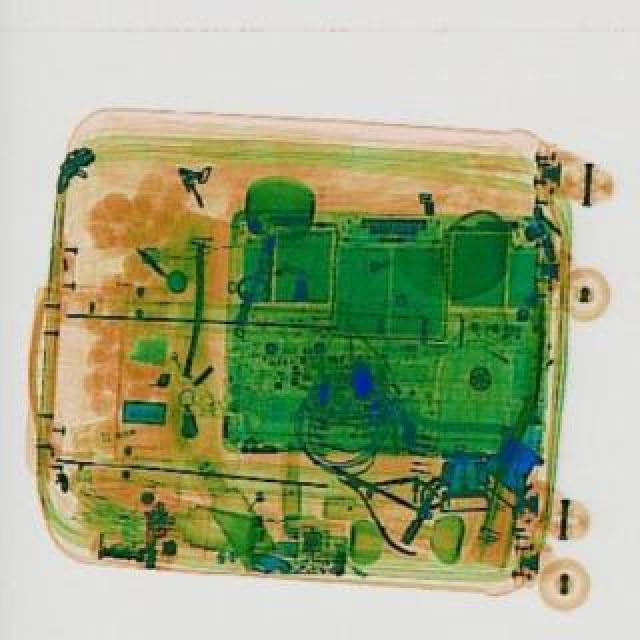wrench: (314, 442, 454, 558)
